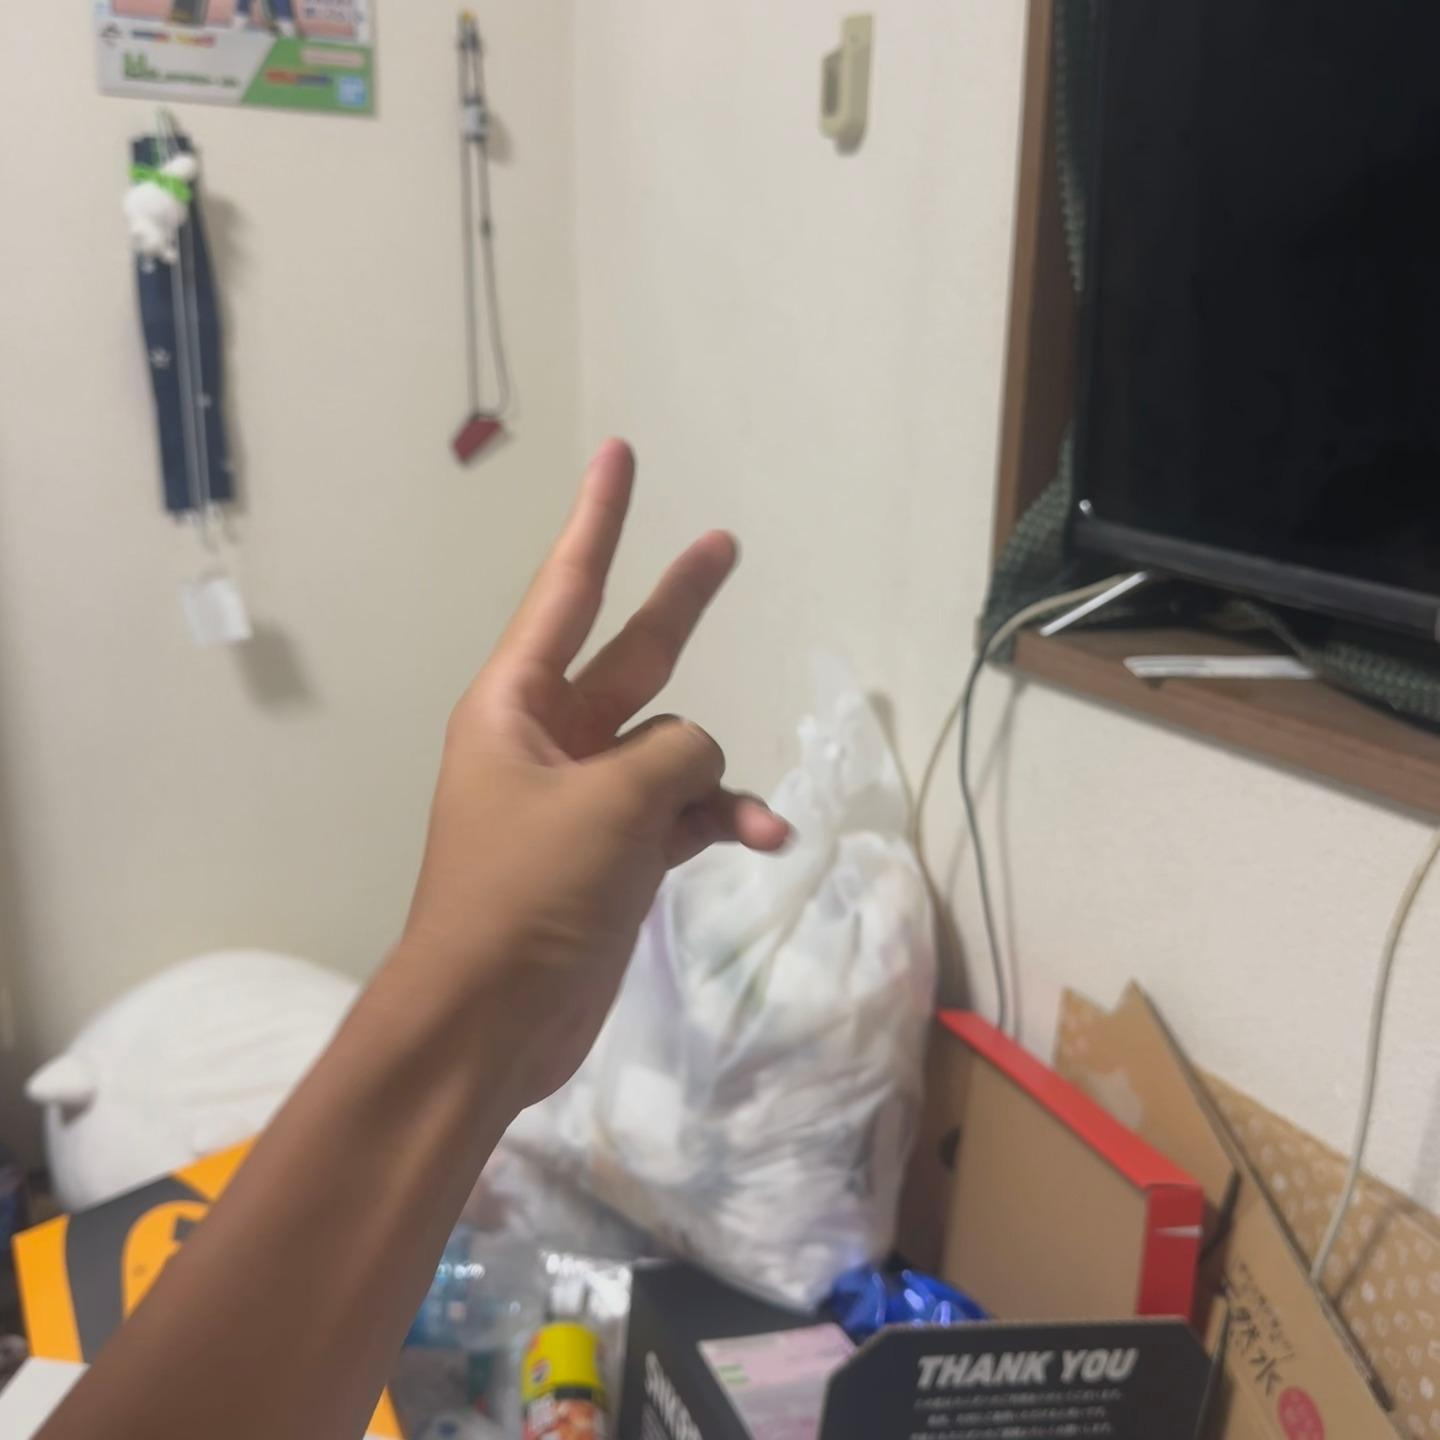without_gloves: (360, 327, 1013, 1153)
